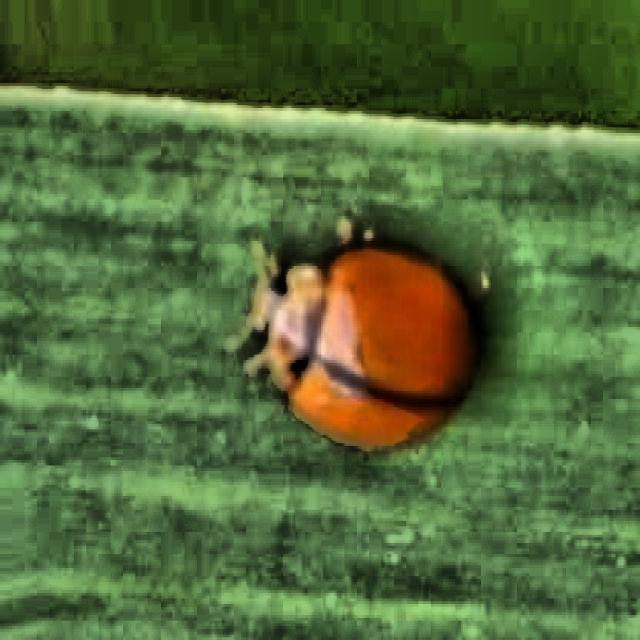Ladybug: (215, 177, 509, 489)
